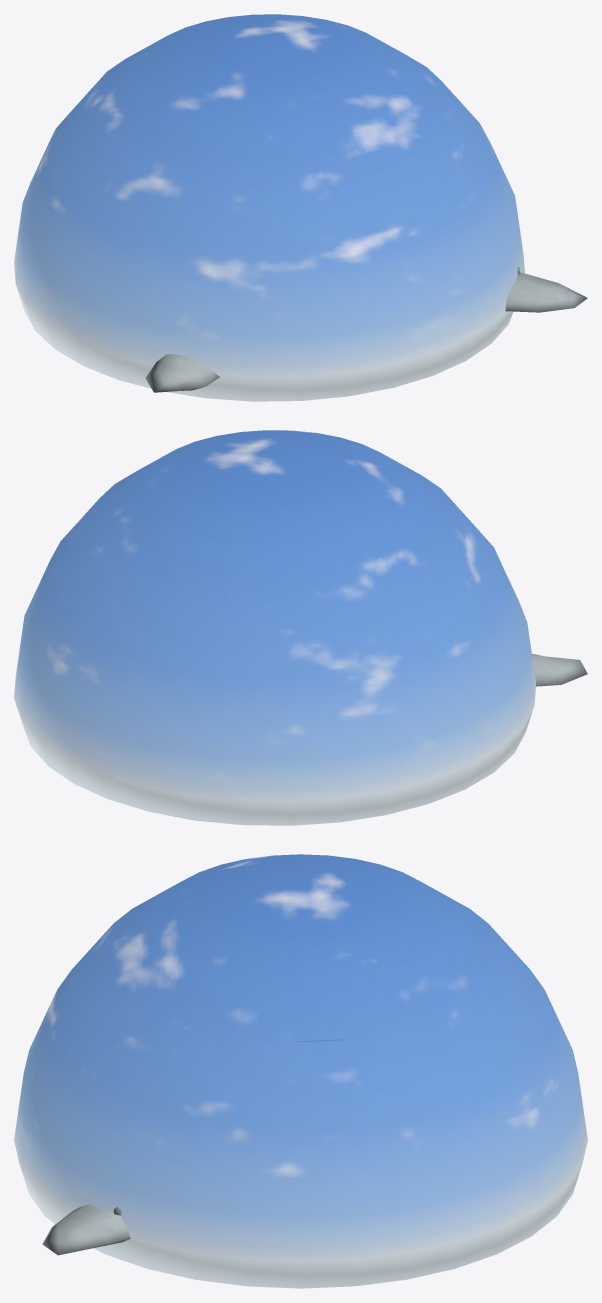
File: calypsos_cave.gltf
3 renders of one model, top to bottom at view 1: azimuth 30°, elevation 25°; view 2: azimuth 150°, elevation 25°; view 3: azimuth 270°, elevation 25°, orthographic. The views are drawn at different scales.
Parts seen in each view (by area): view 1: SkyDome, far.Headland_Distant; view 2: SkyDome, far.Headland_Distant; view 3: SkyDome, far.Headland_Distant.
Boxes of the visible parts, x1,y1,x2,y2 form: SkyDome: [14, 14, 524, 401]; far.Headland_Distant: [145, 272, 587, 392]; SkyDome: [14, 430, 535, 825]; far.Headland_Distant: [532, 653, 587, 686]; SkyDome: [14, 854, 587, 1288]; far.Headland_Distant: [42, 1204, 130, 1255].
Bounding box in the file's own units: 116 × 65 × 116.
34 materials, 34 textured.
